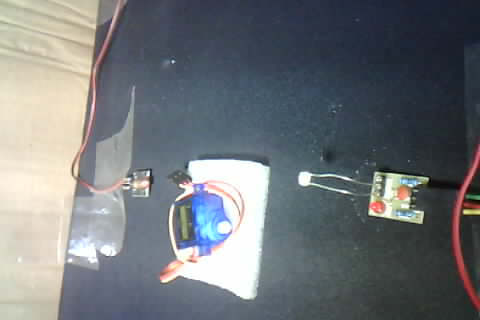motor: (145, 137, 255, 290)
